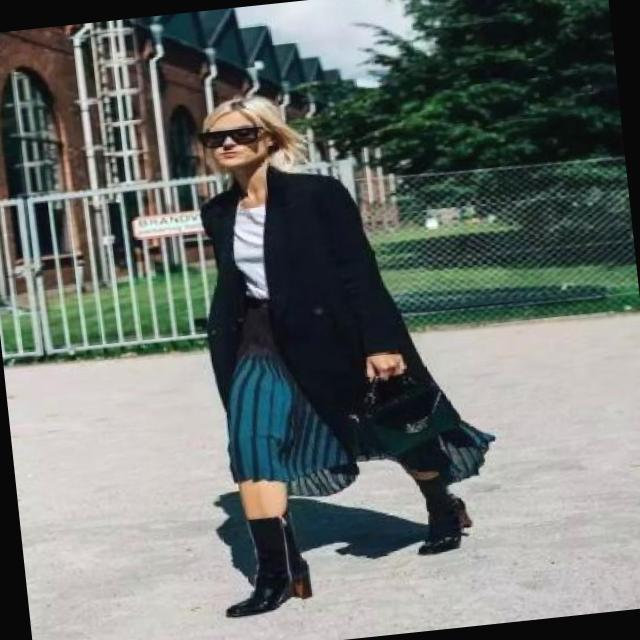Person: (114, 56, 537, 640)
